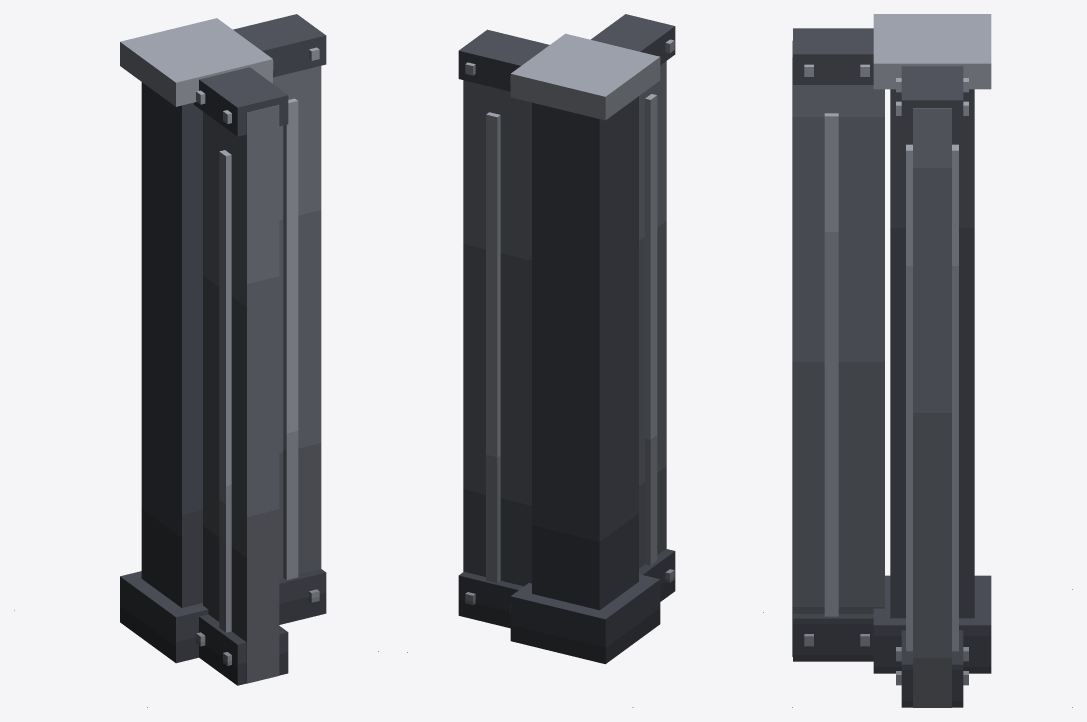
File: wall_metal_corner.glb
3 views of the same model, side by side, from view 1: azimuth 30°, elevation 25°; view 2: azimuth 150°, elevation 25°; view 3: azimuth 270°, elevation 25° (orthographic). The views are drawn at different scales.
Size of the model in its own units: 1 by 2.4 by 1.
Materials: 1 (1 with a texture image).
